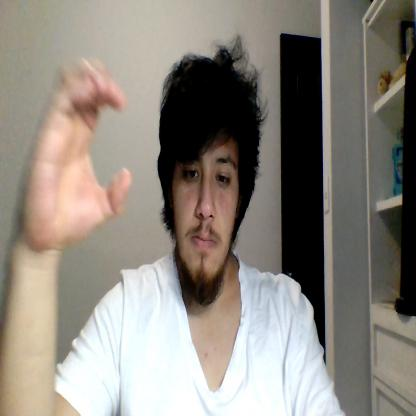C: (16, 57, 132, 245)
